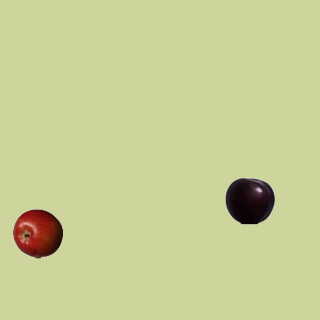Apple Braeburn: (12, 208, 62, 258)
Cherry Wax Black: (224, 175, 274, 225)
